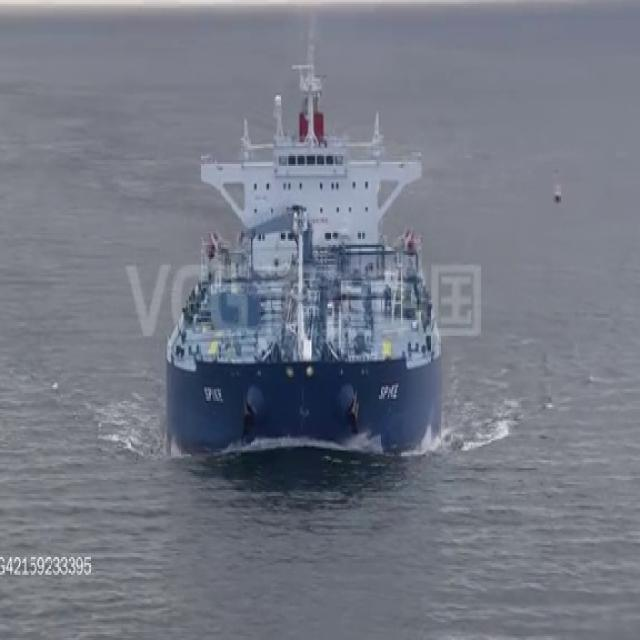cargoship: (164, 18, 446, 454)
